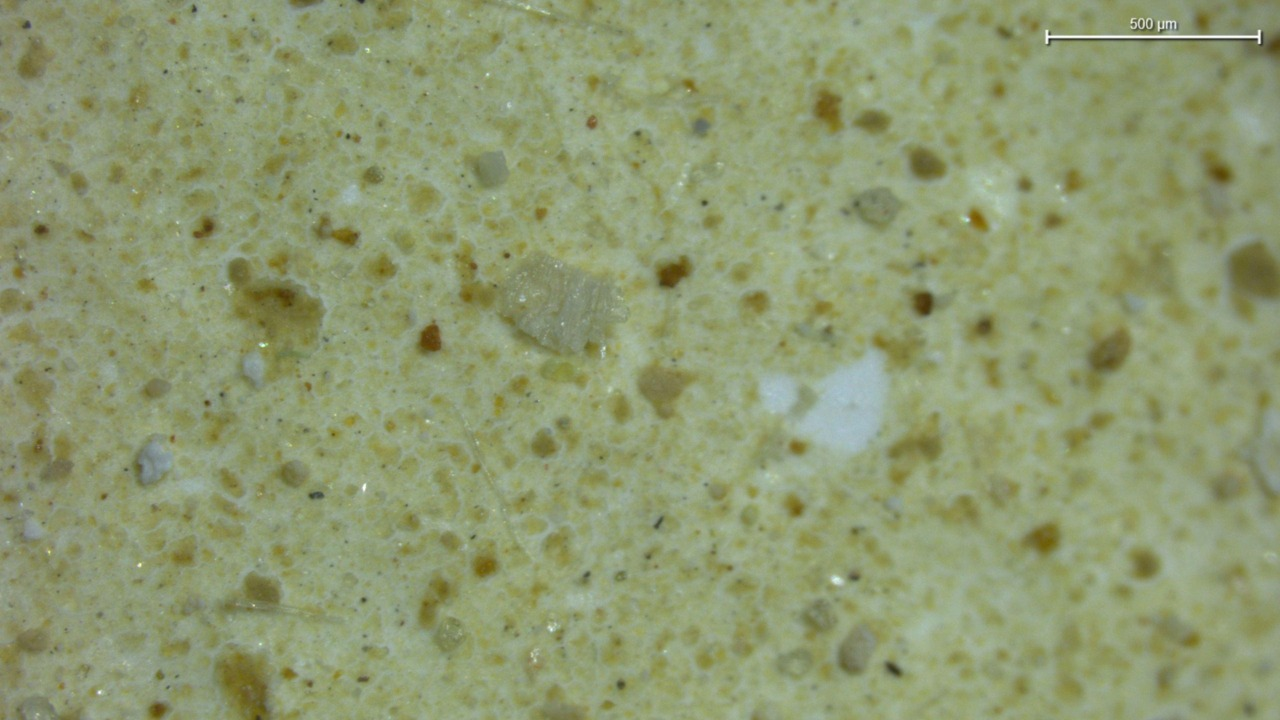microplastic_fragment: (497, 256, 625, 353), (137, 438, 173, 485), (472, 151, 508, 188), (242, 351, 265, 388)
